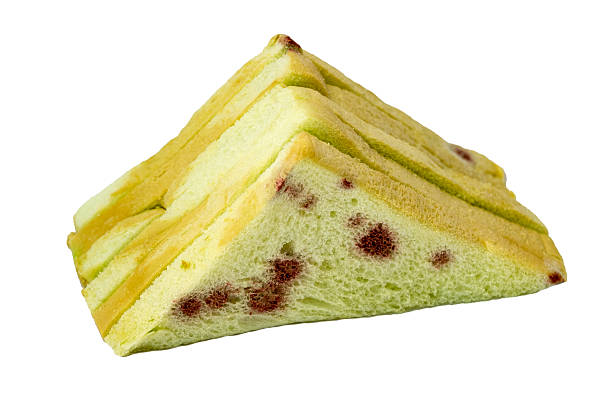mold_bread: (239, 252, 313, 319), (350, 213, 402, 263), (167, 282, 238, 317), (269, 171, 320, 214), (267, 30, 304, 63), (445, 141, 481, 171), (539, 263, 569, 289), (427, 246, 455, 271), (335, 174, 358, 195)
